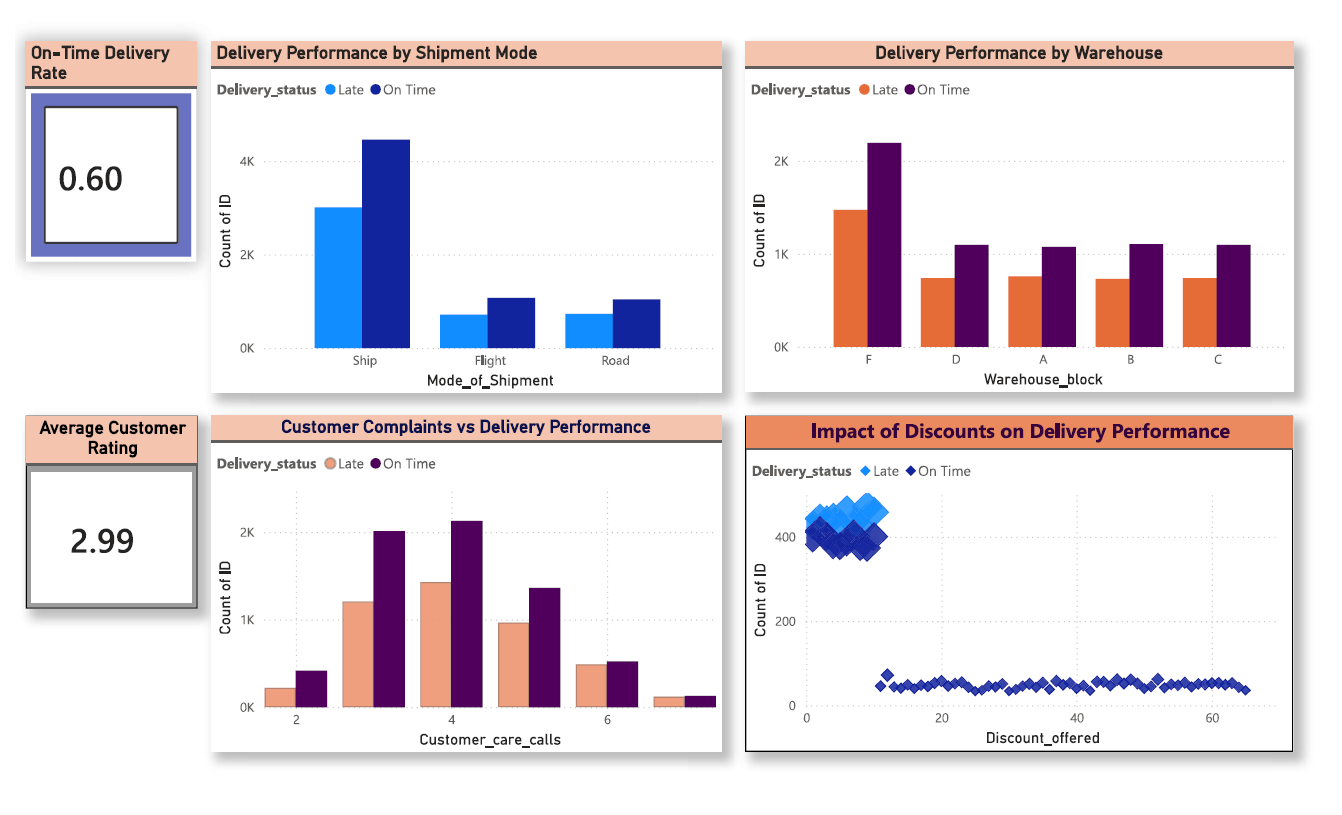

This screenshot's page, from the dashboard's own definition file:
{"tool":"powerbi","page":{"name":"Page 1","canvas":[1280,720],"ordinal":0},"visuals":[{"type":"cardVisual","title":"On-Time Delivery Rate","fields":{"Data":["Train.OnTimeRate"]},"box":[9.9,27.2,162,209],"z":0},{"type":"cardVisual","title":"Average Customer Rating","fields":{"Data":["Train.AvgRating"]},"box":[9.9,382.2,163.3,183.1],"z":1},{"type":"clusteredColumnChart","title":"Delivery Performance by Shipment Mode","fields":{"Category":["Train.Mode_of_Shipment"],"Y":["CountNonNull(Train.ID)"],"Series":["Train.Delivery_status"]},"box":[185.5,27.2,484.9,332.7],"z":2},{"type":"clusteredColumnChart","title":"Delivery Performance by Warehouse","fields":{"Category":["Train.Warehouse_block"],"Y":["CountNonNull(Train.ID)"],"Series":["Train.Delivery_status"]},"box":[692.7,27.2,520.8,331.5],"z":3},{"type":"clusteredColumnChart","title":"Customer Complaints vs Delivery Performance","fields":{"Y":["CountNonNull(Train.ID)"],"Category":["Train.Customer_care_calls"],"Series":["Train.Delivery_status"]},"box":[185.5,382.2,484.9,319.1],"z":4},{"type":"scatterChart","title":"Impact of Discounts on Delivery Performance","fields":{"Series":["Train.Delivery_status"],"Y":["CountNonNull(Train.ID)"],"X":["Train.Discount_offered"],"Size":["Sum(Train.Cost_of_the_Product)"]},"box":[692.7,382.2,520.8,319.1],"z":5}]}

Visuals, with their boxes in screenshot pixels (x1, y1, x2, y2):
"On-Time Delivery Rate" cardVisual: <region>42, 63, 209, 279</region>
"Average Customer Rating" cardVisual: <region>42, 430, 211, 619</region>
"Delivery Performance by Shipment Mode" clusteredColumnChart: <region>223, 63, 725, 407</region>
"Delivery Performance by Warehouse" clusteredColumnChart: <region>748, 63, 1286, 406</region>
"Customer Complaints vs Delivery Performance" clusteredColumnChart: <region>223, 430, 725, 760</region>
"Impact of Discounts on Delivery Performance" scatterChart: <region>748, 430, 1286, 760</region>
